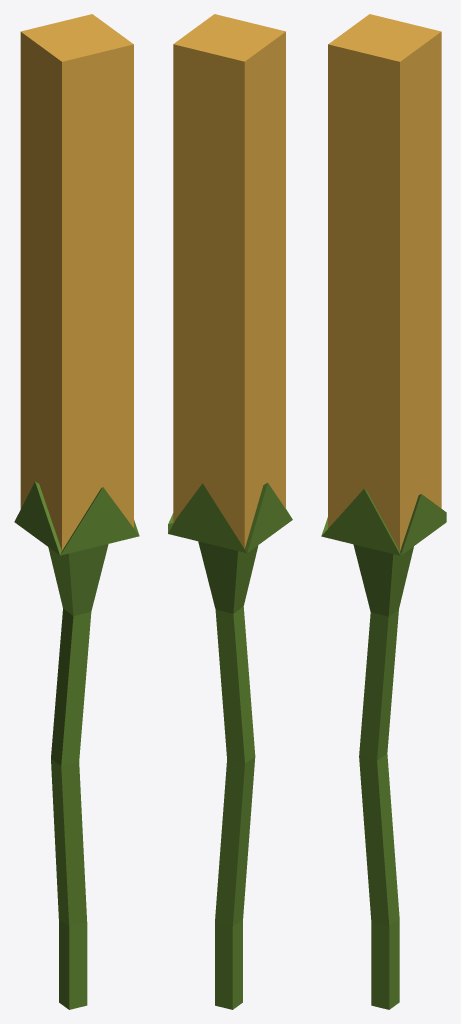
The model's file is MILHOQUADRADO.fbx.
3 views of the same model, side by side, from view 1: azimuth 30°, elevation 25°; view 2: azimuth 150°, elevation 25°; view 3: azimuth 330°, elevation 25° (orthographic).
Visible parts, largest first — view 1: Cube.003; view 2: Cube.003; view 3: Cube.003.
Boxes of the visible parts, x1,y1,x2,y2 form: Cube.003: [14, 14, 139, 1009]; Cube.003: [168, 14, 292, 1009]; Cube.003: [321, 14, 446, 1009].
Bounding box in the file's own units: 24.47 × 285 × 24.47.
